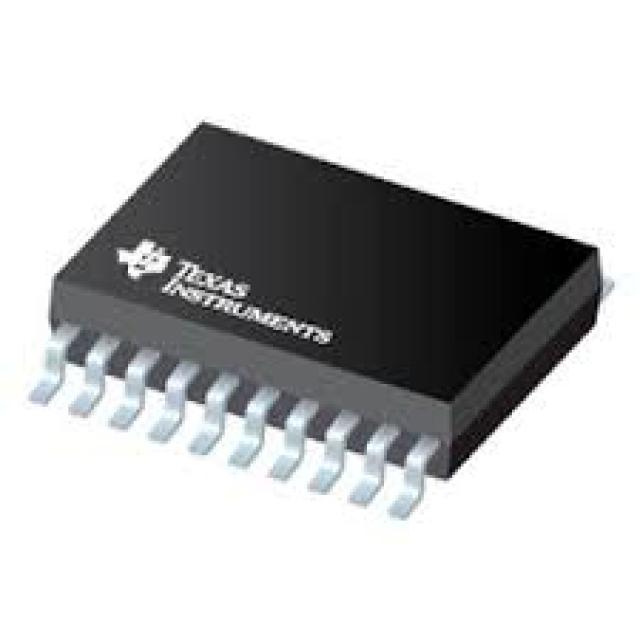IC: (23, 134, 604, 524)
